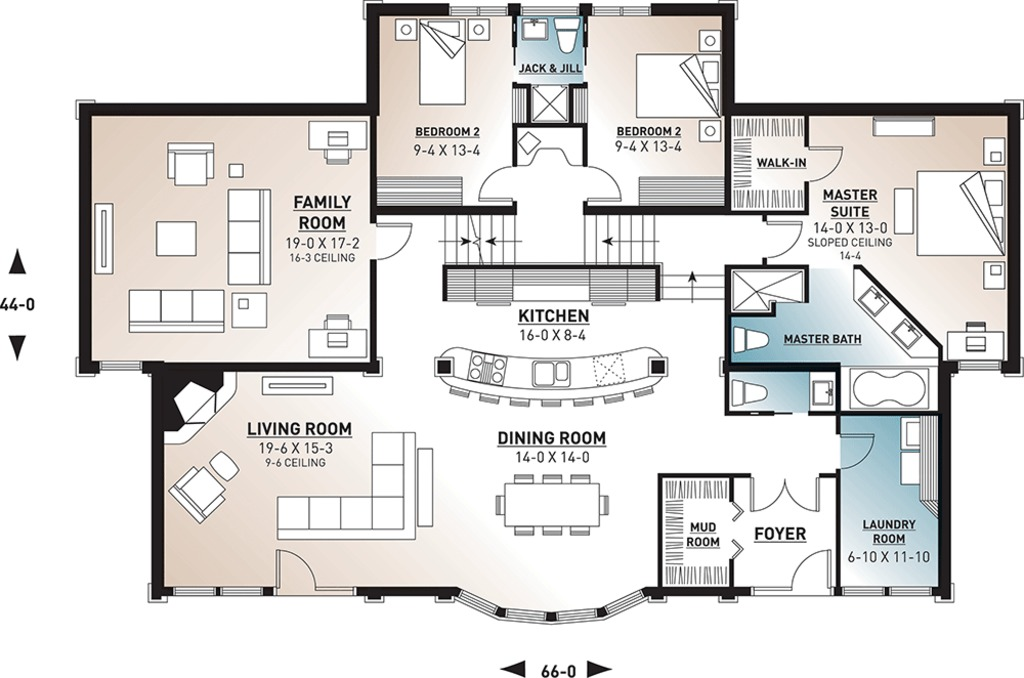bed: (915, 168, 1008, 260), (635, 52, 721, 118), (418, 18, 470, 107)
dining_table: (492, 471, 612, 543)
door: (745, 472, 822, 514), (789, 546, 834, 591), (833, 431, 879, 470), (580, 165, 623, 206), (374, 219, 412, 265), (474, 163, 516, 204), (274, 550, 314, 593), (763, 219, 804, 257), (809, 142, 846, 184)
kitchen_bar: (434, 338, 674, 409)
large_sink: (730, 321, 772, 355), (729, 373, 768, 409), (553, 16, 581, 57)
large_sofa: (368, 428, 417, 544), (275, 491, 366, 550), (225, 186, 274, 287), (125, 287, 227, 335)
small_sink: (809, 371, 839, 410), (858, 285, 891, 319), (893, 314, 920, 352), (520, 16, 552, 42)
small_sofa: (171, 465, 227, 524), (164, 141, 218, 187)
stairs: (438, 209, 521, 265), (579, 211, 661, 264)
tub: (848, 366, 933, 412)
windows: (450, 584, 646, 623), (167, 583, 264, 601), (840, 583, 934, 598), (589, 2, 653, 20), (94, 355, 143, 375), (448, 3, 509, 16)
